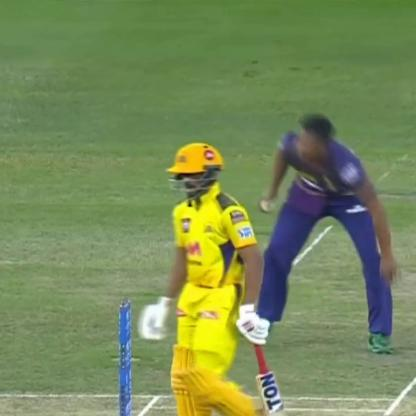ball: (259, 192, 278, 217)
